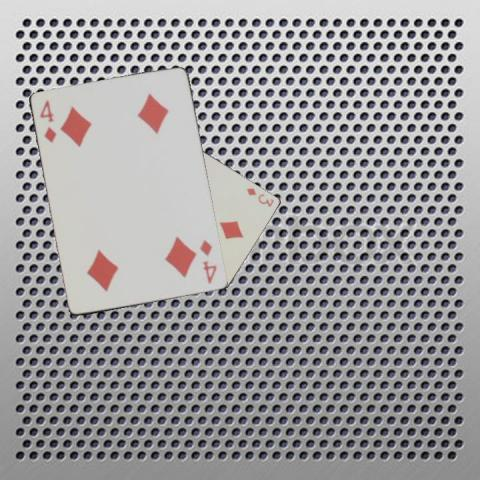3d: (244, 184, 275, 208)
4d: (197, 237, 219, 285), (37, 96, 58, 144)
